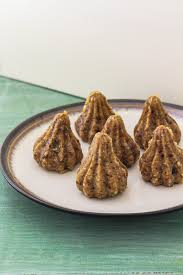modak: (28, 104, 90, 176), (70, 127, 128, 203), (126, 90, 183, 147), (63, 88, 118, 143), (135, 117, 183, 180), (98, 114, 143, 170)
